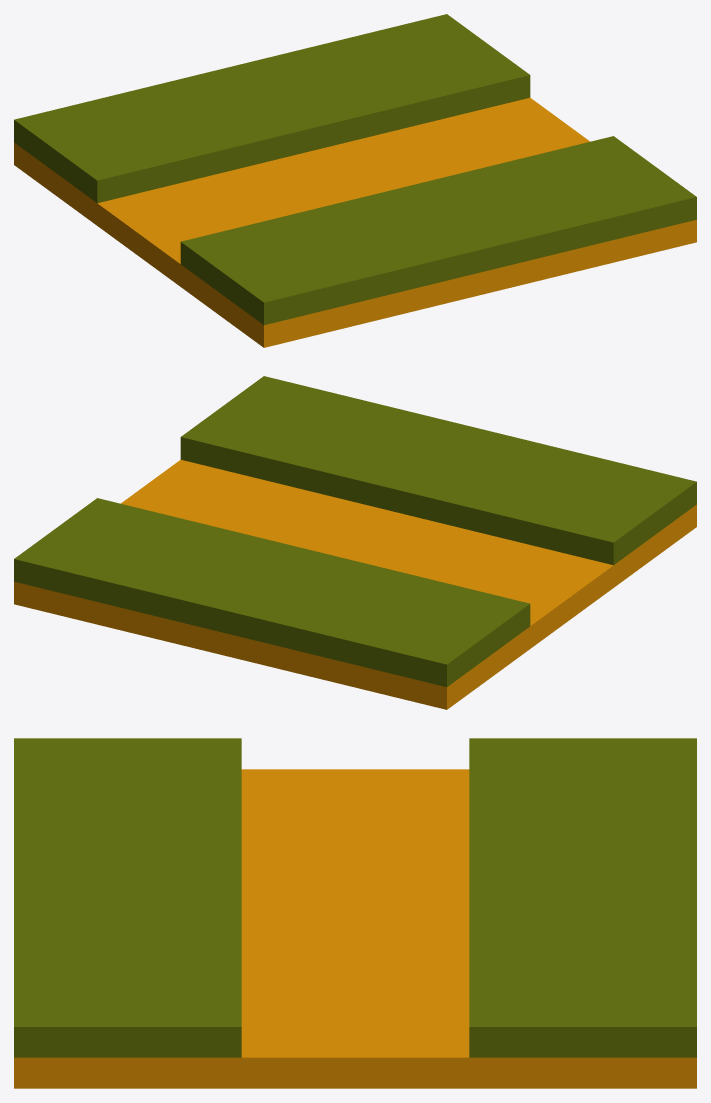
Rendered from FarmStraight.fbx.
3 renders of one model, top to bottom at view 1: azimuth 30°, elevation 25°; view 2: azimuth 150°, elevation 25°; view 3: azimuth 270°, elevation 25°, orthographic. The views are drawn at different scales.
Parts seen in each view (by area): view 1: FarmStraight; view 2: FarmStraight; view 3: FarmStraight.
Part boxes in pixels (<box>): FarmStraight: <box>14,14,696,347</box>; FarmStraight: <box>14,376,696,709</box>; FarmStraight: <box>14,738,696,1088</box>.
Size of the model in its own units: 1 by 0.1 by 1.
